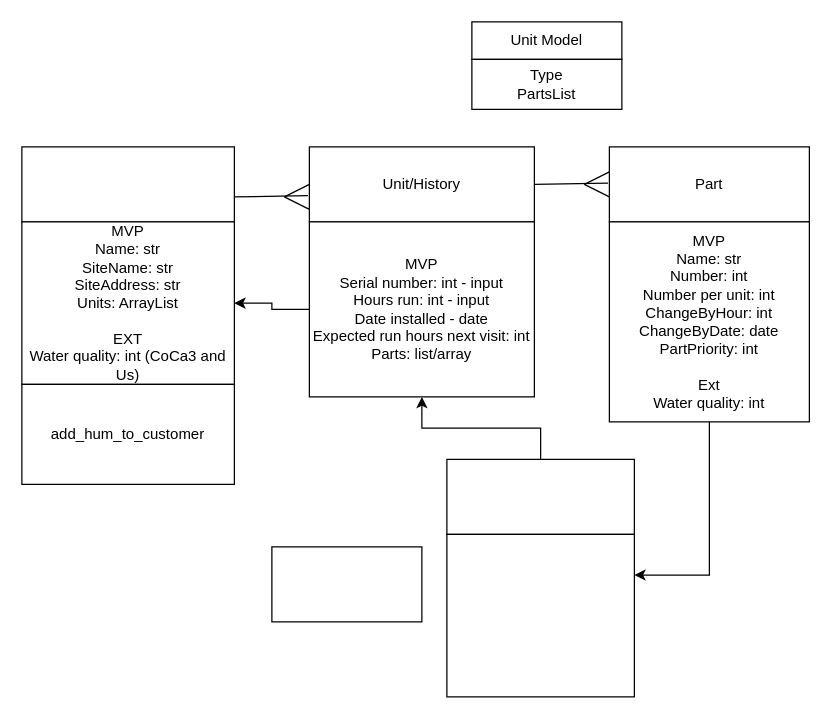
Image size: 831x719. Some labels were removed from this diagram. The shapes that lost their labels are listed below. From the top down, each one's centre as x and y in pixels, then its label:
At point (127, 184): "Customer".
At point (540, 496): "Unit/Part Bridge(Active)".
At point (346, 584): "Unit/Part Bridge(History)".
At point (540, 615): "Part_ID: sql_id HRSincePartChanged DatePartWasLastChanged HoursRun".
